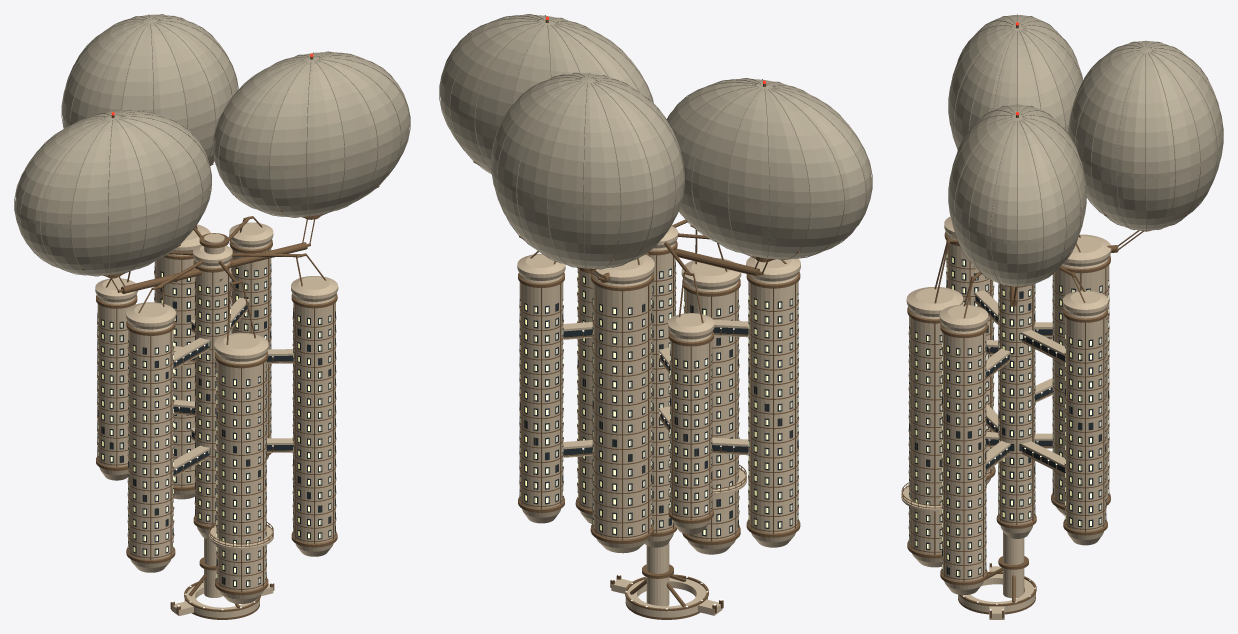
File: archive.glb
3 renders of one model, left to right at view 1: azimuth 30°, elevation 25°; view 2: azimuth 150°, elevation 25°; view 3: azimuth 270°, elevation 25°, orthographic. The views are drawn at different scales.
Visible parts, largest first — view 1: Archive stacks | Warm limestone hull, Envelope02 | Matte woven envelopes, Envelope01 | Matte woven envelopes, Stack frames | Aged bronze framing, Envelope03 | Matte woven envelopes, Window recesses | Recessed glazing, Reading windows | Reading windows, Crown crosshead | Aged bronze framing, Enclosed bridges | Warm limestone hull, Dock masonry | Warm limestone hull, Bridge glazing | Recessed glazing, Spine masonry | Warm limestone hull (+3 smaller); view 2: Archive stacks | Warm limestone hull, Envelope03 | Matte woven envelopes, Envelope01 | Matte woven envelopes, Stack frames | Aged bronze framing, Envelope02 | Matte woven envelopes, Window recesses | Recessed glazing, Reading windows | Reading windows, Dock masonry | Warm limestone hull, Enclosed bridges | Warm limestone hull, Spine masonry | Warm limestone hull, Crown crosshead | Aged bronze framing, Dock bronze | Aged bronze framing (+1 smaller); view 3: Archive stacks | Warm limestone hull, Envelope03 | Matte woven envelopes, Envelope02 | Matte woven envelopes, Stack frames | Aged bronze framing, Envelope01 | Matte woven envelopes, Window recesses | Recessed glazing, Reading windows | Reading windows, Enclosed bridges | Warm limestone hull, Bridge glazing | Recessed glazing, Dock masonry | Warm limestone hull, Spine masonry | Warm limestone hull, Bridge bronze | Aged bronze framing (+2 smaller).
Boxes of the visible parts, x1=… form: Archive stacks | Warm limestone hull: x1=95, y1=222, x2=338, y2=603; Envelope02 | Matte woven envelopes: x1=213, y1=51, x2=410, y2=217; Envelope01 | Matte woven envelopes: x1=14, y1=110, x2=211, y2=276; Stack frames | Aged bronze framing: x1=96, y1=240, x2=337, y2=595; Envelope03 | Matte woven envelopes: x1=61, y1=14, x2=238, y2=164; Window recesses | Recessed glazing: x1=97, y1=263, x2=335, y2=587; Reading windows | Reading windows: x1=98, y1=266, x2=330, y2=585; Crown crosshead | Aged bronze framing: x1=117, y1=216, x2=310, y2=293; Enclosed bridges | Warm limestone hull: x1=173, y1=297, x2=293, y2=477; Dock masonry | Warm limestone hull: x1=171, y1=582, x2=273, y2=617; Bridge glazing | Recessed glazing: x1=173, y1=303, x2=293, y2=475; Spine masonry | Warm limestone hull: x1=204, y1=233, x2=224, y2=597; Archive stacks | Warm limestone hull: x1=517, y1=226, x2=800, y2=554; Envelope03 | Matte woven envelopes: x1=491, y1=72, x2=684, y2=269; Envelope01 | Matte woven envelopes: x1=666, y1=78, x2=872, y2=260; Stack frames | Aged bronze framing: x1=518, y1=241, x2=800, y2=544; Envelope02 | Matte woven envelopes: x1=439, y1=14, x2=653, y2=174; Window recesses | Recessed glazing: x1=519, y1=262, x2=798, y2=536; Reading windows | Reading windows: x1=520, y1=267, x2=798, y2=534; Dock masonry | Warm limestone hull: x1=611, y1=577, x2=722, y2=617; Enclosed bridges | Warm limestone hull: x1=563, y1=319, x2=748, y2=457; Spine masonry | Warm limestone hull: x1=646, y1=542, x2=669, y2=606; Crown crosshead | Aged bronze framing: x1=597, y1=219, x2=763, y2=282; Dock bronze | Aged bronze framing: x1=610, y1=574, x2=723, y2=619; Archive stacks | Warm limestone hull: x1=906, y1=216, x2=1111, y2=594; Envelope03 | Matte woven envelopes: x1=1068, y1=40, x2=1223, y2=230; Envelope02 | Matte woven envelopes: x1=948, y1=104, x2=1086, y2=287; Stack frames | Aged bronze framing: x1=907, y1=231, x2=1110, y2=585; Envelope01 | Matte woven envelopes: x1=948, y1=14, x2=1083, y2=149; Window recesses | Recessed glazing: x1=909, y1=253, x2=1108, y2=577; Reading windows | Reading windows: x1=909, y1=254, x2=1108, y2=575; Enclosed bridges | Warm limestone hull: x1=974, y1=290, x2=1064, y2=475; Bridge glazing | Recessed glazing: x1=975, y1=295, x2=1064, y2=472; Dock masonry | Warm limestone hull: x1=958, y1=566, x2=1035, y2=619; Spine masonry | Warm limestone hull: x1=1003, y1=531, x2=1024, y2=598; Bridge bronze | Aged bronze framing: x1=901, y1=300, x2=1064, y2=508.
Size of the model in its own units: 601 by 792 by 422.
